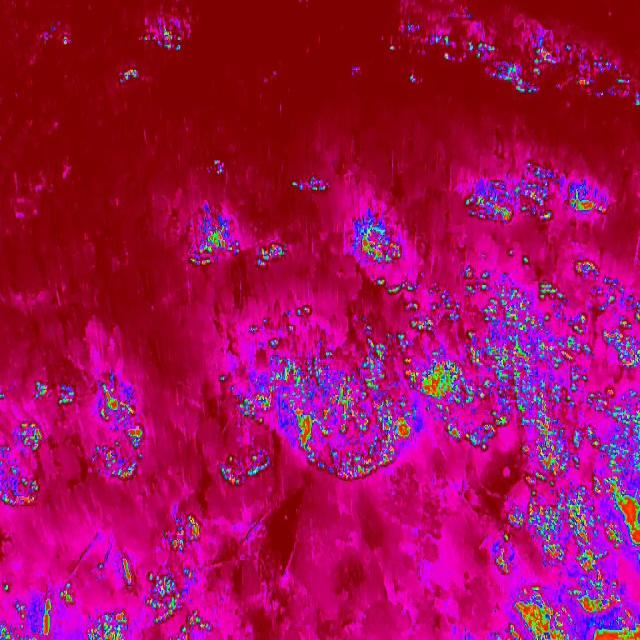fire: (214, 247, 640, 499), (496, 487, 639, 640), (384, 22, 640, 106), (0, 375, 153, 504), (0, 557, 219, 640), (462, 164, 618, 234), (185, 214, 290, 278), (347, 212, 405, 268), (159, 517, 209, 554), (139, 25, 187, 55), (282, 170, 332, 194), (114, 64, 142, 85), (212, 155, 228, 181), (57, 34, 72, 50)
